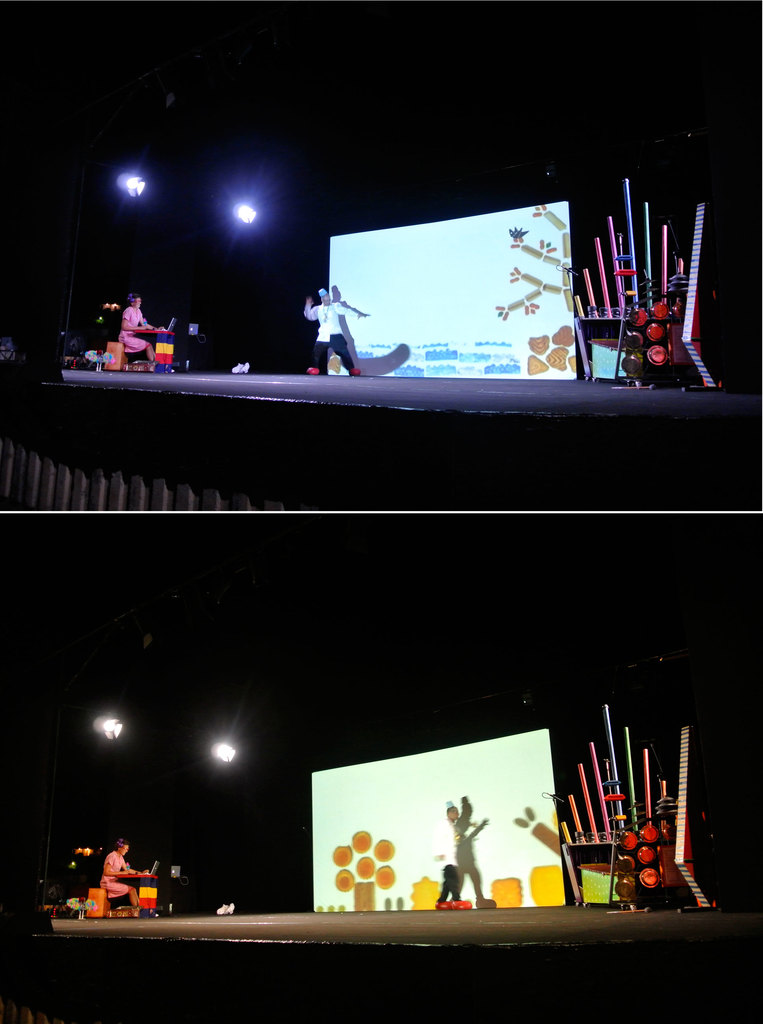Person: (298, 283, 367, 378), (424, 799, 475, 914), (97, 839, 150, 914), (115, 292, 162, 363)
